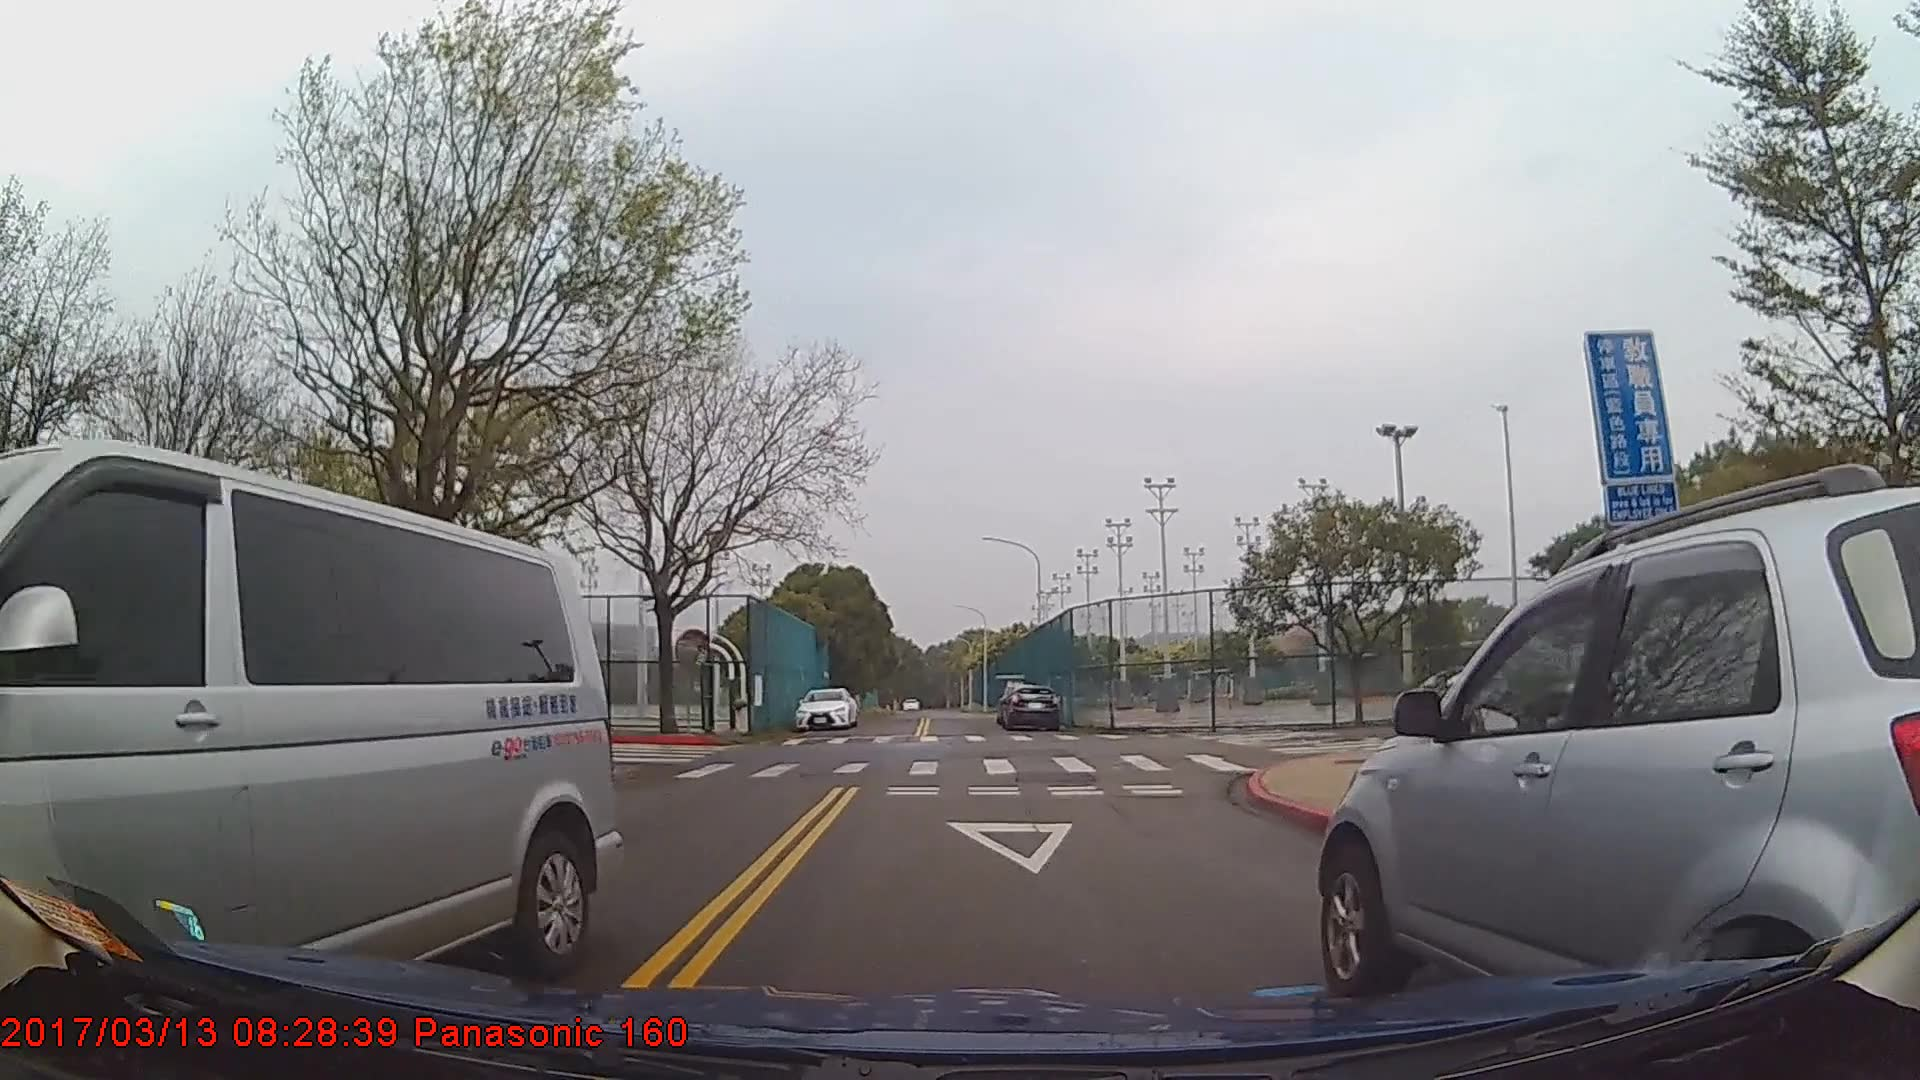vehicle: (0, 436, 618, 1006), (1316, 487, 1920, 1034), (793, 684, 858, 731), (1001, 680, 1062, 731)
